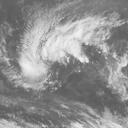cyclone: (15, 37, 61, 86)
